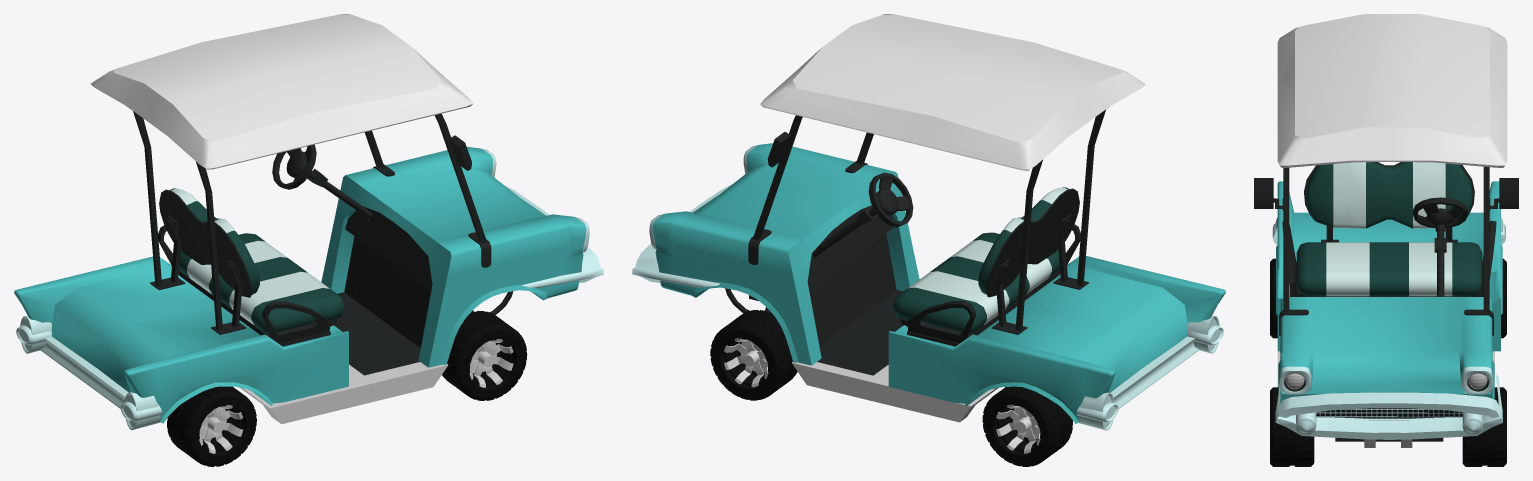
Rendered from golf.gltf.
3 renders of one model, left to right at view 1: azimuth 30°, elevation 25°; view 2: azimuth 150°, elevation 25°; view 3: azimuth 270°, elevation 25°, orthographic. The views are drawn at different scales.
Parts seen in each view (by area): view 1: bottom, Front_wheel_right, Rear_wheel_right; view 2: bottom, Front_wheel_left, Rear_wheel_left; view 3: bottom, Front_wheel_right, Front_wheel_left, Rear_wheel_right, Rear_wheel_left.
Part boxes in pixels (left/top/right/bottom): bottom: left=14, top=14, right=603, bottom=429; Front_wheel_right: left=442, top=311, right=527, bottom=400; Rear_wheel_right: left=167, top=386, right=256, bottom=466; bottom: left=632, top=14, right=1225, bottom=430; Front_wheel_left: left=710, top=310, right=797, bottom=400; Rear_wheel_left: left=982, top=386, right=1072, bottom=466; bottom: left=1254, top=14, right=1518, bottom=447; Front_wheel_right: left=1270, top=387, right=1314, bottom=466; Front_wheel_left: left=1462, top=387, right=1506, bottom=466; Rear_wheel_right: left=1270, top=258, right=1277, bottom=338; Rear_wheel_left: left=1501, top=258, right=1506, bottom=338.
Bounding box in the file's own units: 4.4 × 2.91 × 2.14.
